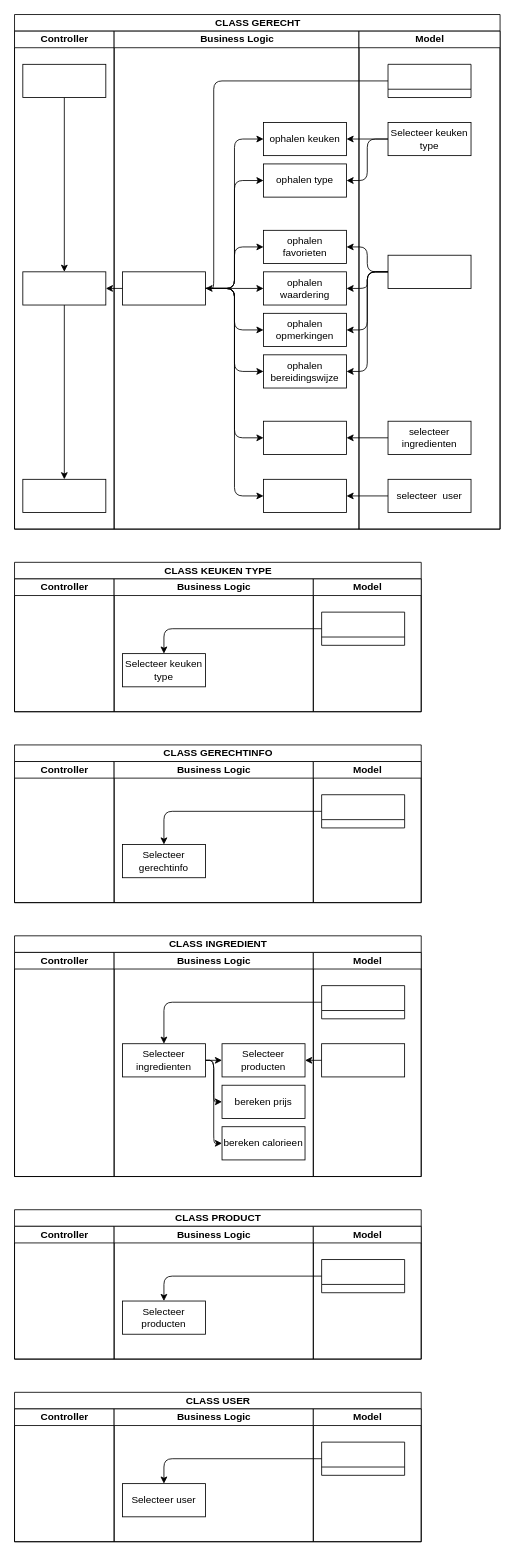
The diagram is 515 pixels wide and 1556 high, and some of its shapes have lost their labels. Here are the shapes that lost their labels. From the top down, the centre of each, then its label:
the point at 64,80: ophalen detailpage
the point at 429,80: Gerecht
the point at 64,288: Ophalen Gerecht
the point at 163,288: Selecteer Gerecht
the point at 429,271: selecteer gerecht info
the point at 305,437: ophalen ingredienten
the point at 64,495: HTML
the point at 305,495: ophalen user
the point at 363,628: keuken type
the point at 363,811: gerechtinfo
the point at 363,1002: ingredient
the point at 363,1060: ophalen producten
the point at 363,1276: product
the point at 363,1458: user
